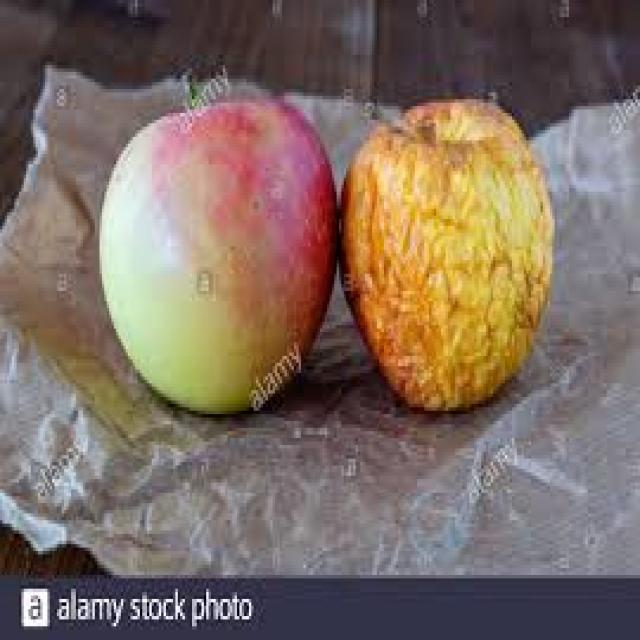biodegradable: (97, 65, 339, 411), (339, 62, 548, 407)
paper: (0, 58, 638, 572)
